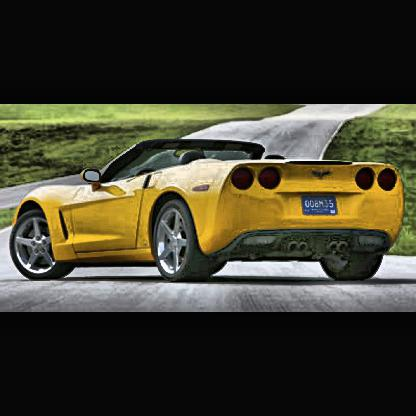Chevrolet Corvette Convertible 2012: (10, 140, 406, 285)
